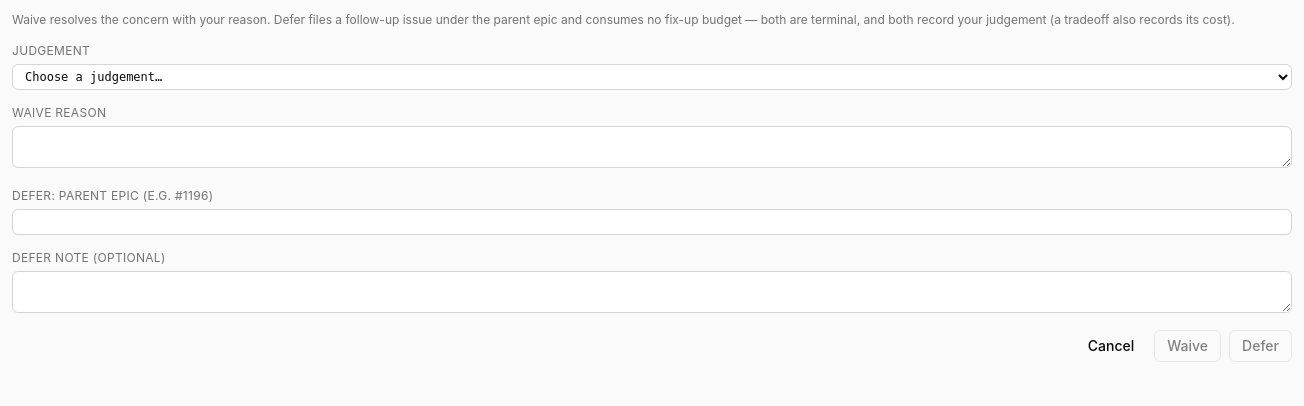
it: DecisionPanel — failure modes leave the item (onResolved not called) › F2: concern waive 422 concern_waive_conflict surfaces the error, no resolve
The image size is (1304, 406).
Step 1. Select "no_defect — not a defect (false positive)" in the dropdown labelled "Judgement" → (652, 77), box [12,64,1292,90]
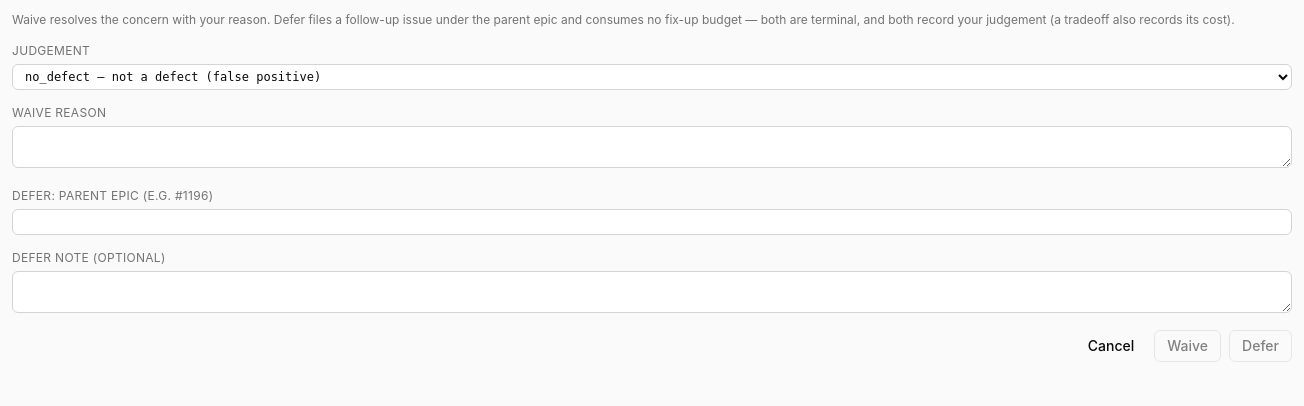
Step 2. Type "x" into the text box labelled "Waive reason" → (652, 147), box [12,126,1292,168]
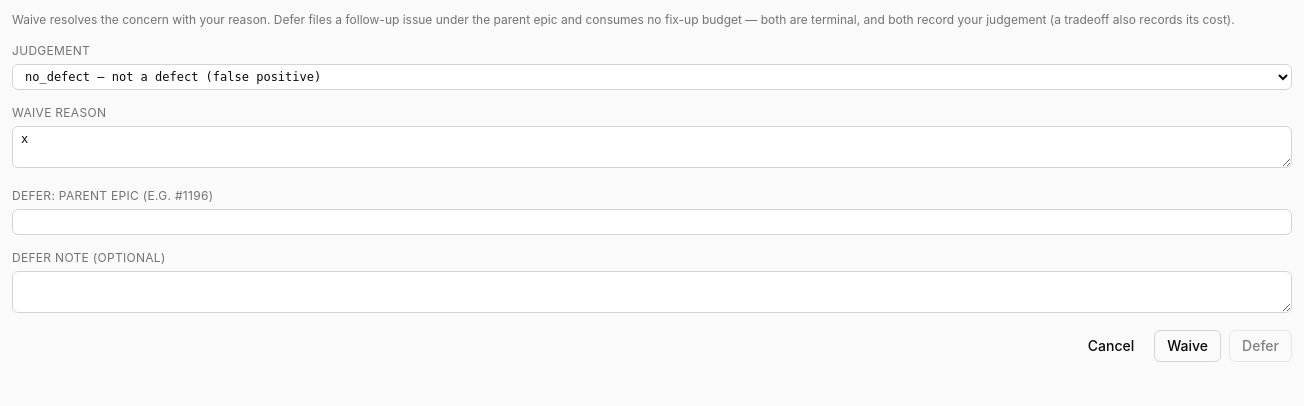
Step 3. Click the button "Waive" → click(1188, 346), box [1154,330,1221,362]
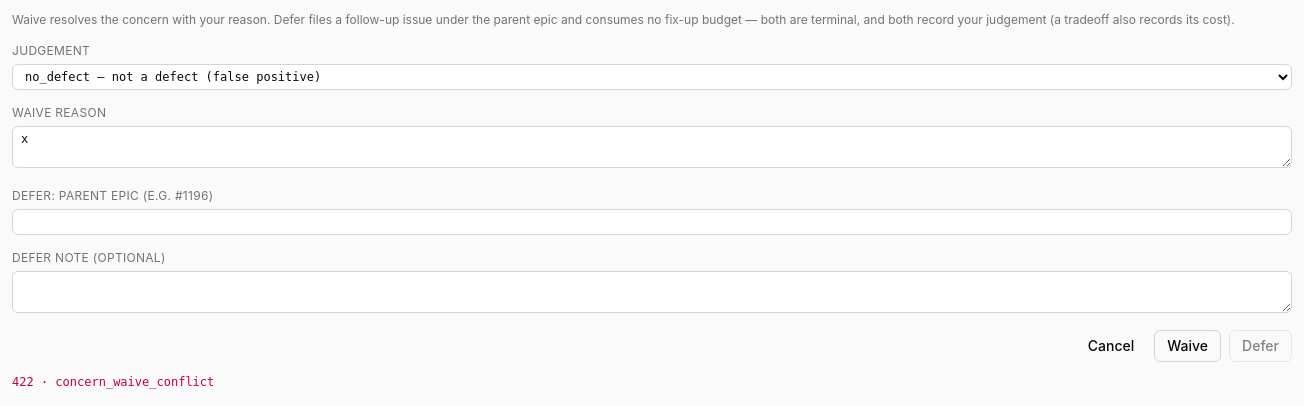
Expected: the message reads "422 · concern_waive_conflict", [12,375,214,389]
